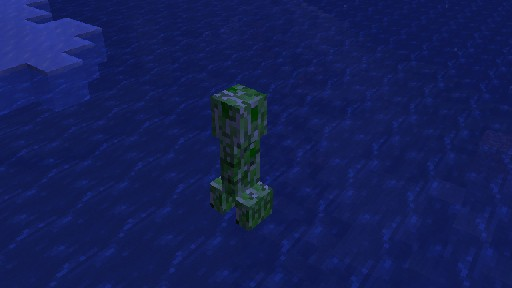creeper: (209, 83, 273, 231)
